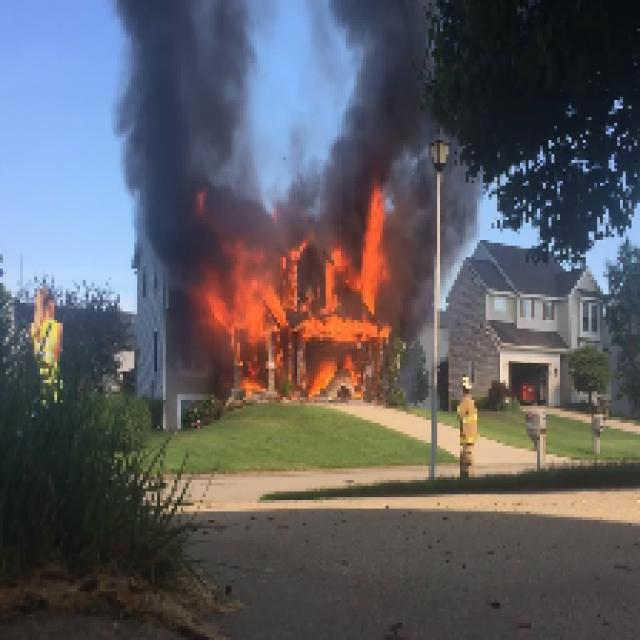Fire: (210, 275, 290, 336), (353, 199, 388, 319), (306, 310, 360, 346)
Smoke: (133, 0, 238, 270), (341, 8, 426, 194)
